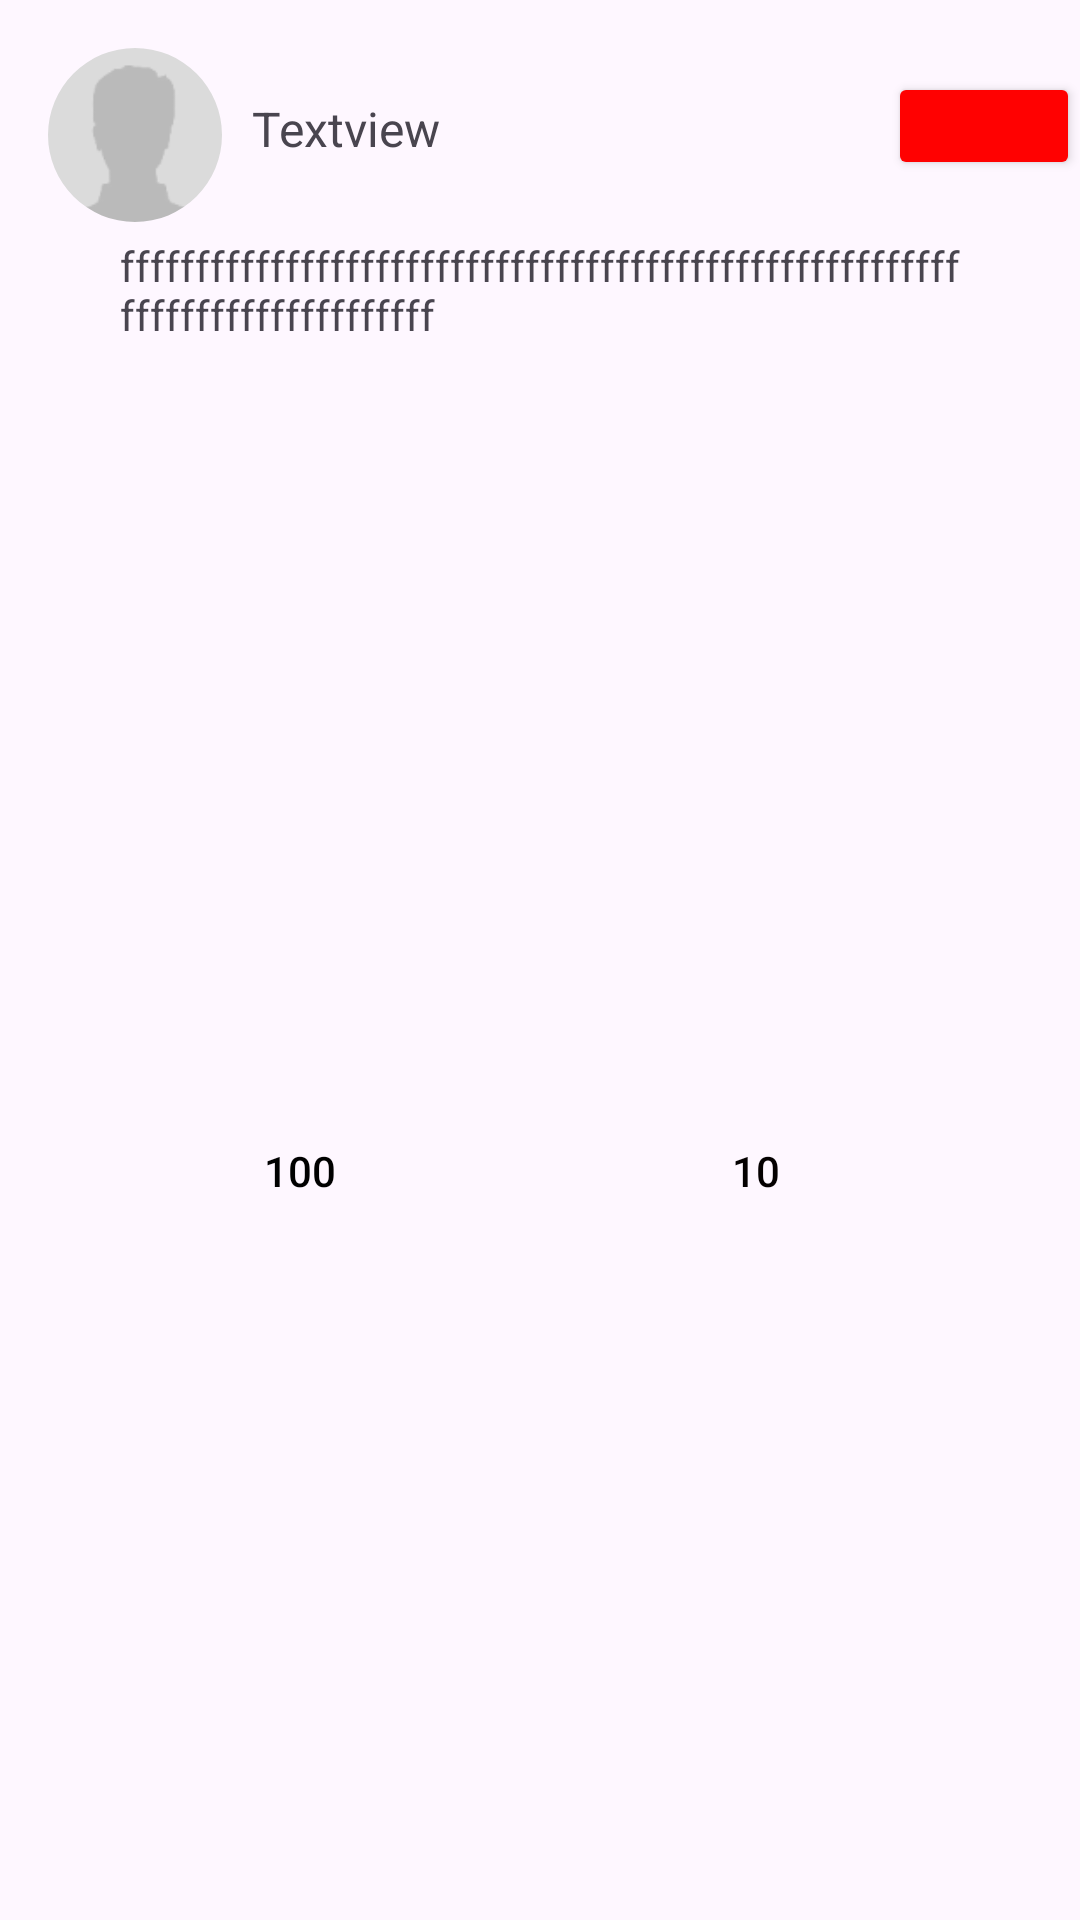

Point at icon controls on the screen. Image size 1080px×1920px, points as [x,y].
fotoperfil: [135,135]
